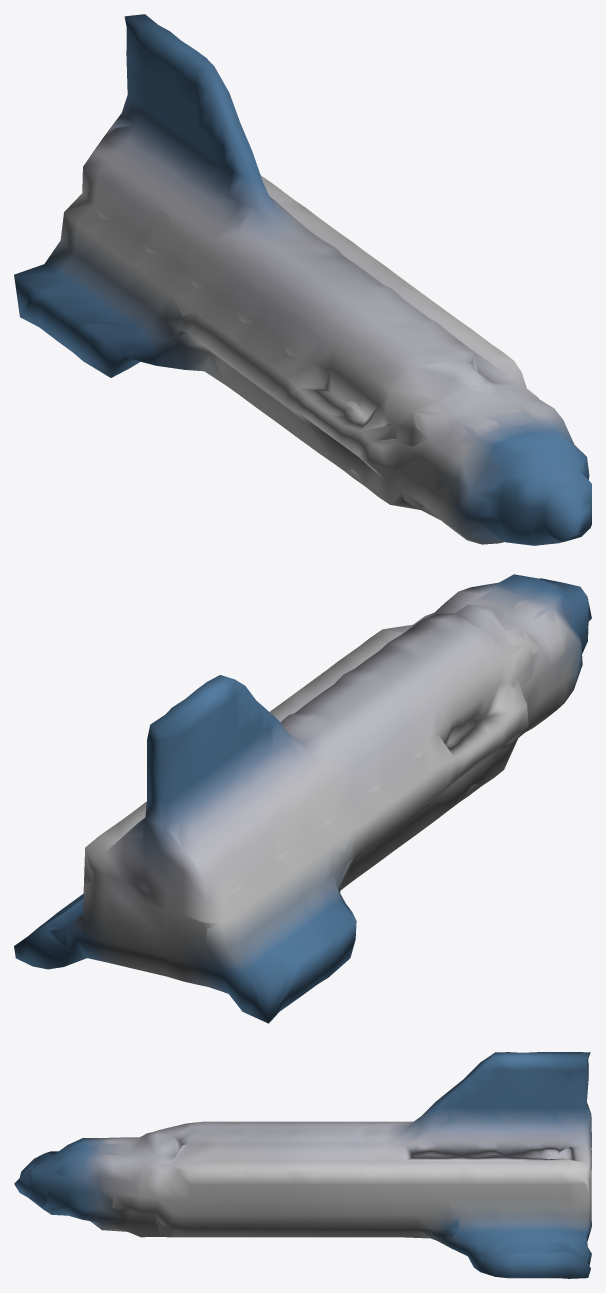
File: dreadnought_missile.glb
3 views of the same model, one above another, from view 1: azimuth 30°, elevation 25°; view 2: azimuth 150°, elevation 25°; view 3: azimuth 270°, elevation 25° (orthographic). The views are drawn at different scales.
Visible parts, largest first — view 1: dreadnought_missile; view 2: dreadnought_missile; view 3: dreadnought_missile.
Part boxes in pixels (<box>): dreadnought_missile: <box>14,14,591,545</box>; dreadnought_missile: <box>14,574,591,1023</box>; dreadnought_missile: <box>14,1052,591,1278</box>.
Size of the model in its own units: 0.9502 by 0.9574 by 2.75.
